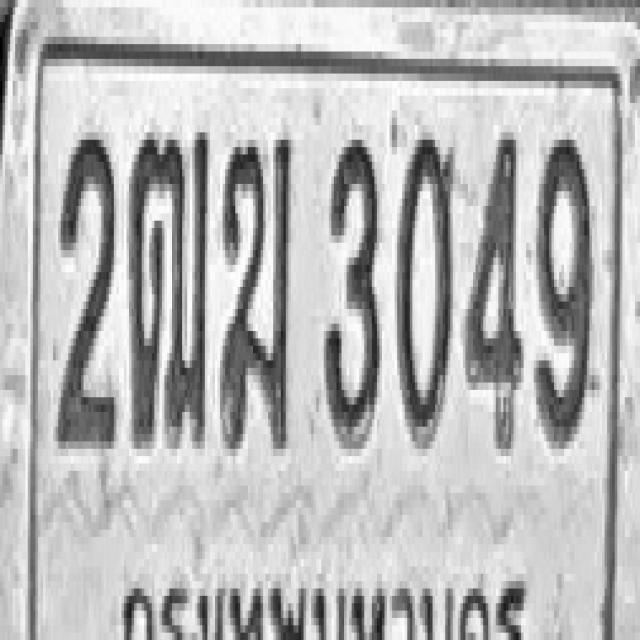0: (395, 129, 455, 445)
15KhorRaKhang: (219, 129, 292, 445)
2: (56, 125, 116, 449)
27ThorPhuThao: (126, 125, 210, 449)
3: (324, 129, 379, 445)
4: (464, 125, 522, 449)
9: (535, 132, 591, 442)
